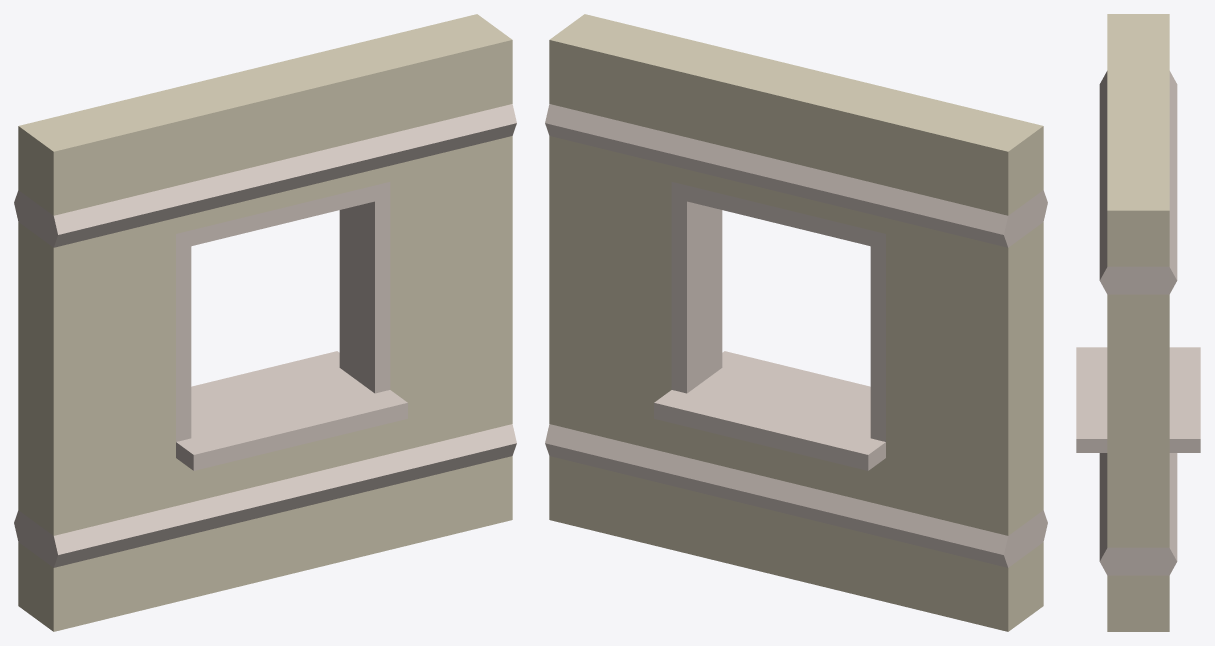
The model's file is roman_wall_window_1.fbx.
3 renders of one model, left to right at view 1: azimuth 30°, elevation 25°; view 2: azimuth 150°, elevation 25°; view 3: azimuth 270°, elevation 25°, orthographic. The views are drawn at different scales.
Parts seen in each view (by area): view 1: Cube.022; view 2: Cube.022; view 3: Cube.022.
Part boxes in pixels (<box>): Cube.022: <box>14,14,516,631</box>; Cube.022: <box>545,14,1047,631</box>; Cube.022: <box>1076,14,1200,631</box>.
Size of the model in its own units: 3 by 3 by 0.8.
